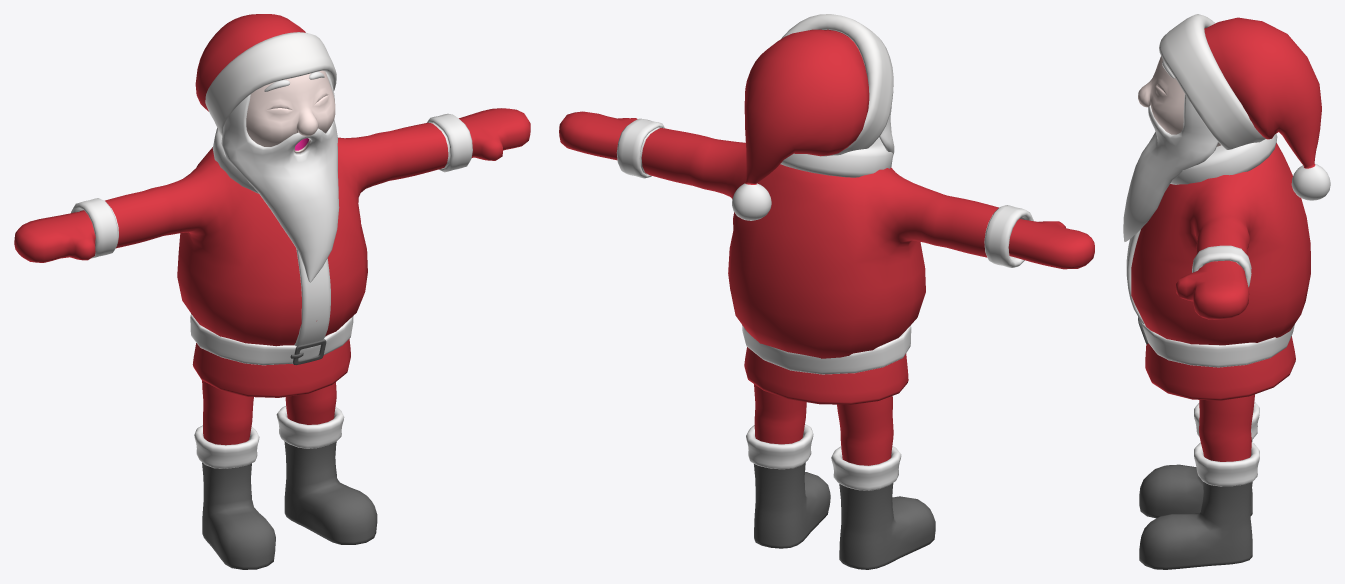
The model's file is santa.gltf.
The picture shows the model from 3 angles, left to right: view 1: azimuth 30°, elevation 25°; view 2: azimuth 150°, elevation 25°; view 3: azimuth 270°, elevation 25°; orthographic projection. The views are drawn at different scales.
Visible parts, largest first — view 1: santa; view 2: santa; view 3: santa.
Boxes of the visible parts, bbox=[...] form: santa: bbox=[14, 14, 530, 569]; santa: bbox=[559, 14, 1094, 569]; santa: bbox=[1123, 14, 1330, 569].
Size of the model in its own units: 10.38 by 9.78 by 3.58.
